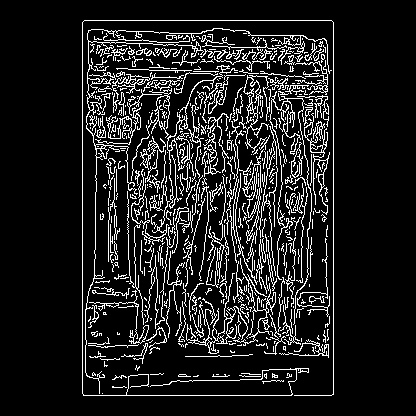buddha-standing: (47, 212, 256, 269)
